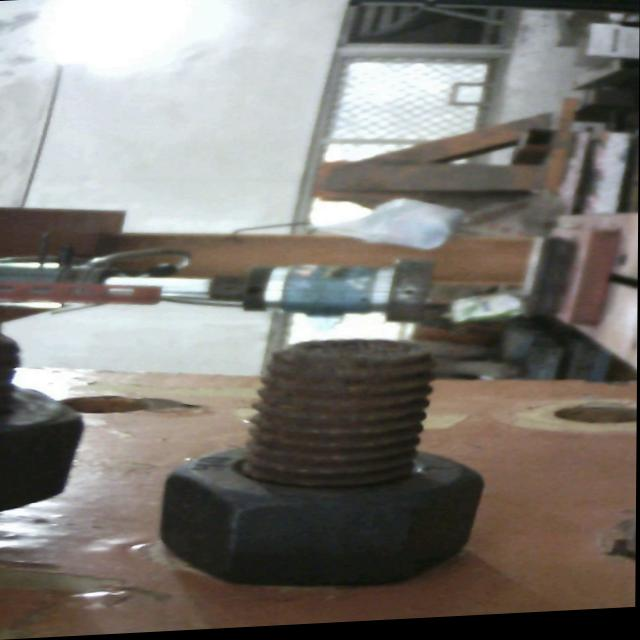Missing bolt: (54, 394, 148, 419), (556, 409, 638, 434)
Rusty bolt: (157, 337, 484, 589)
